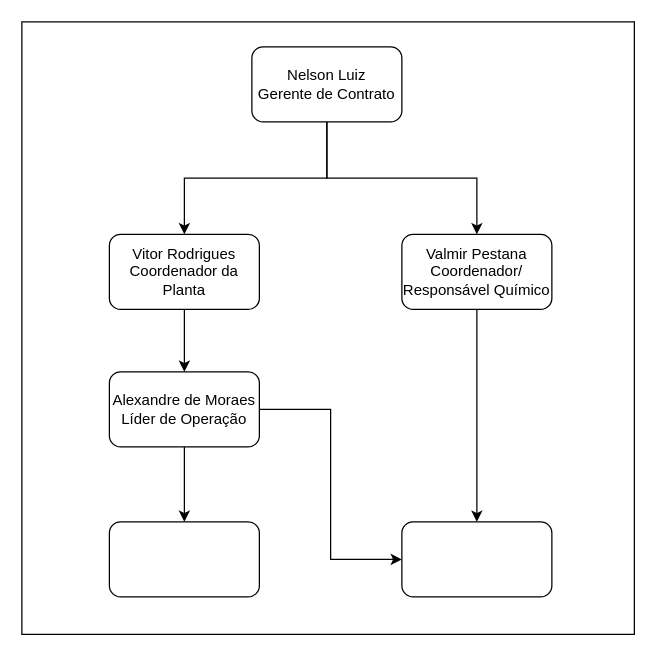
This 656x656 diagram has some shape labels left out. The shapes that lost their labels are listed below. From the top down, each one's box as (x1, y1, x2, y2) in pixels, then its label:
(108, 521, 259, 597): Operação
(401, 521, 552, 597): Analista Químico
